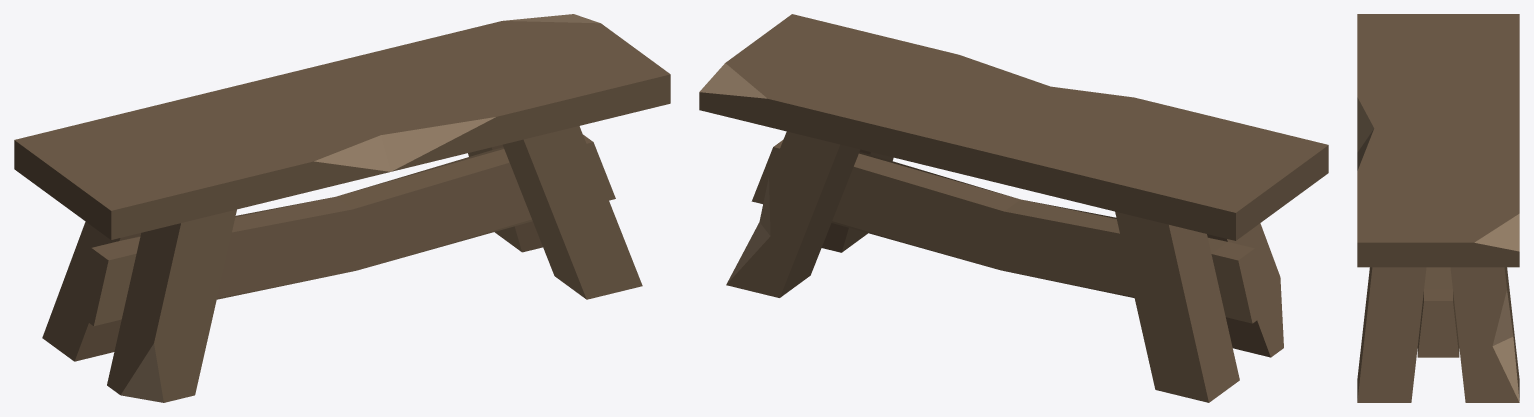
The model's file is 03_LP_Bench.fbx.
3 renders of one model, left to right at view 1: azimuth 30°, elevation 25°; view 2: azimuth 150°, elevation 25°; view 3: azimuth 270°, elevation 25°, orthographic. The views are drawn at different scales.
Visible parts, largest first — view 1: Bench_A; view 2: Bench_A; view 3: Bench_A.
Boxes of the visible parts, x1=… form: Bench_A: x1=14, y1=14, x2=670, y2=402; Bench_A: x1=699, y1=14, x2=1328, y2=402; Bench_A: x1=1357, y1=14, x2=1519, y2=402.
Bounding box in the file's own units: 100 × 35 × 30.
